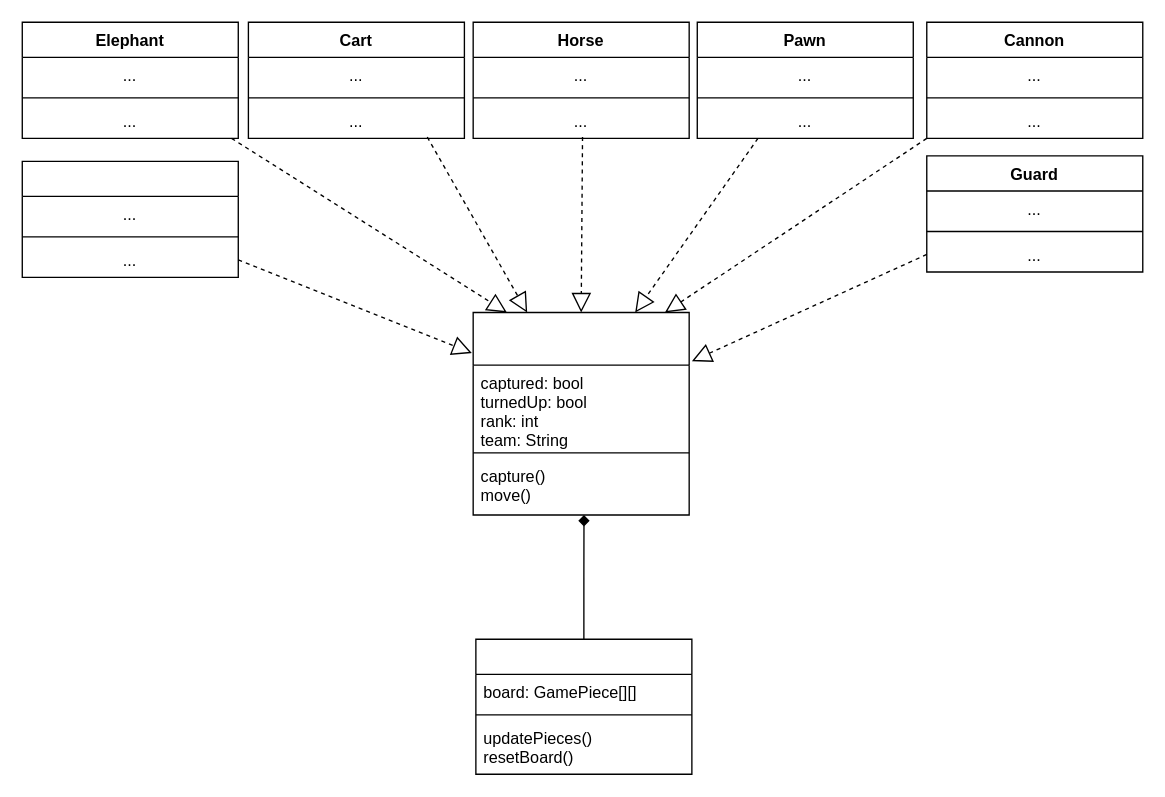
This 1165x797 diagram has some shape labels left out. The shapes that lost their labels are listed below. From the top down, each one's box as (x1, y1, x2, y2) in pixels, then its label:
(21, 160, 238, 277): King
(472, 311, 689, 515): «interface» GamePiece
(475, 638, 692, 774): GameBoard
